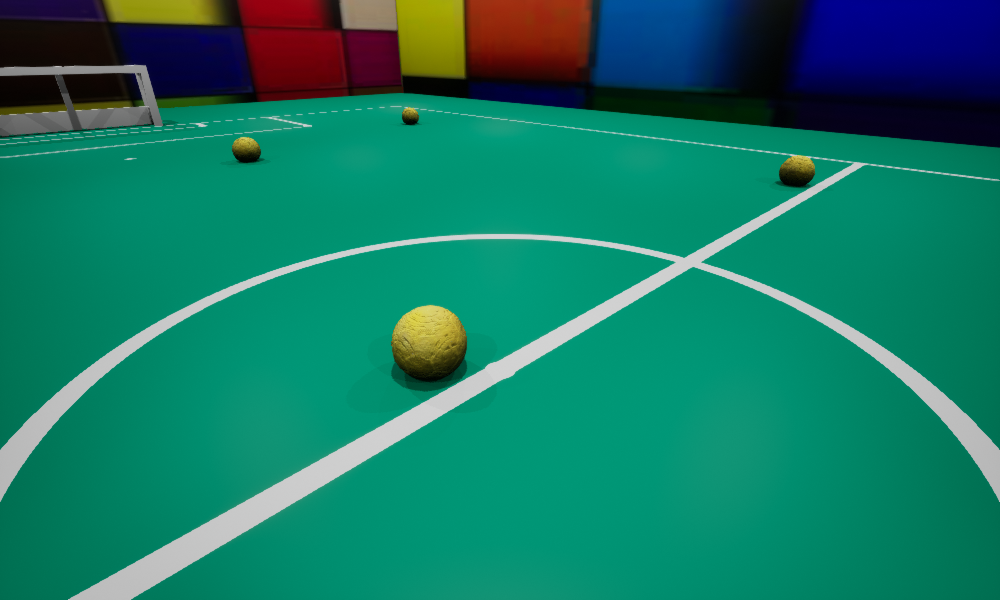b: (391, 305, 466, 379), (779, 155, 814, 185), (232, 137, 260, 161), (402, 107, 418, 123)
g: (0, 65, 162, 135)
